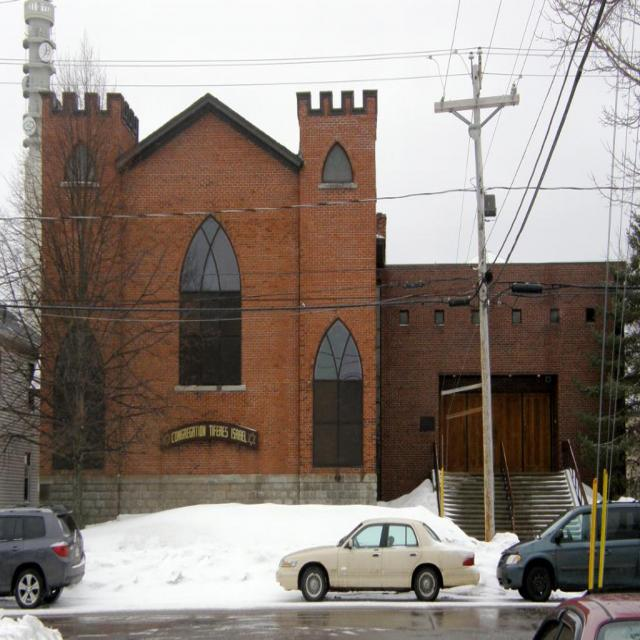other: (281, 503, 491, 612), (494, 496, 640, 604), (0, 502, 87, 612)
